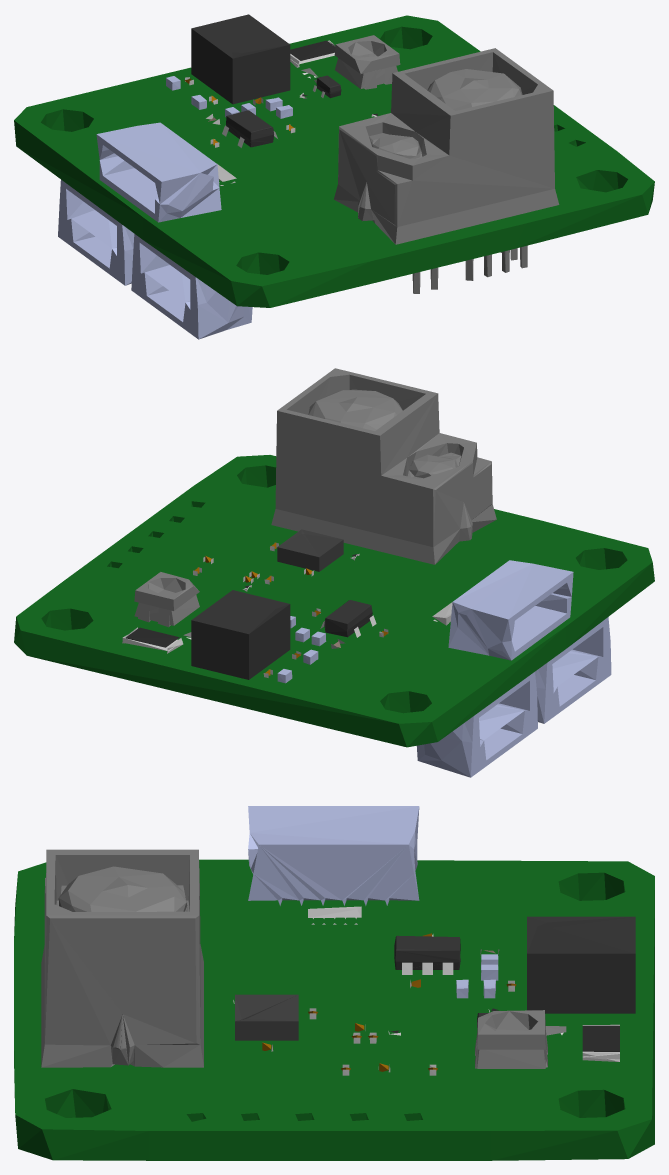
Rendered from ark_flow_mr_rev_1.0.dae.
3 views of the same model, one above another, from view 1: azimuth 30°, elevation 25°; view 2: azimuth 150°, elevation 25°; view 3: azimuth 270°, elevation 25° (orthographic). The views are drawn at different scales.
Visible parts, largest first — view 1: Shape_IndexedFaceSet.003; view 2: Shape_IndexedFaceSet.003; view 3: Shape_IndexedFaceSet.003.
Boxes of the visible parts, x1,y1,x2,y2 form: Shape_IndexedFaceSet.003: [14, 14, 654, 339]; Shape_IndexedFaceSet.003: [14, 368, 654, 777]; Shape_IndexedFaceSet.003: [14, 806, 654, 1160].
Bounding box in the file's own units: 0.03 × 0.0299 × 0.0136.
